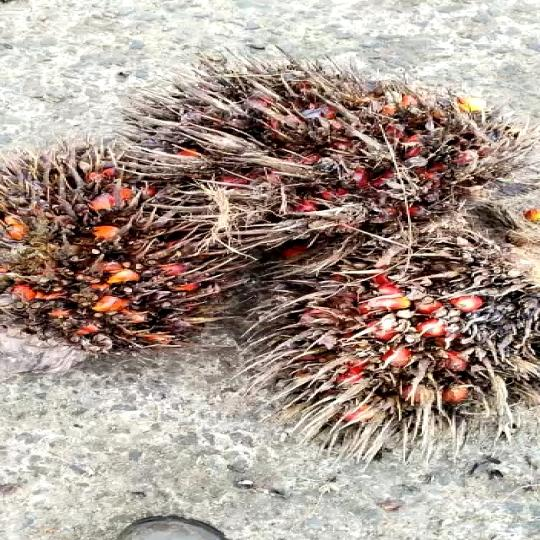terlalu masak: (109, 66, 496, 237), (267, 220, 540, 440), (0, 151, 249, 355)
